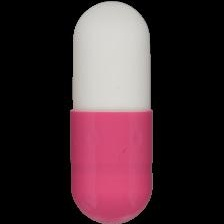68151-2919: (0, 0, 224, 224)
